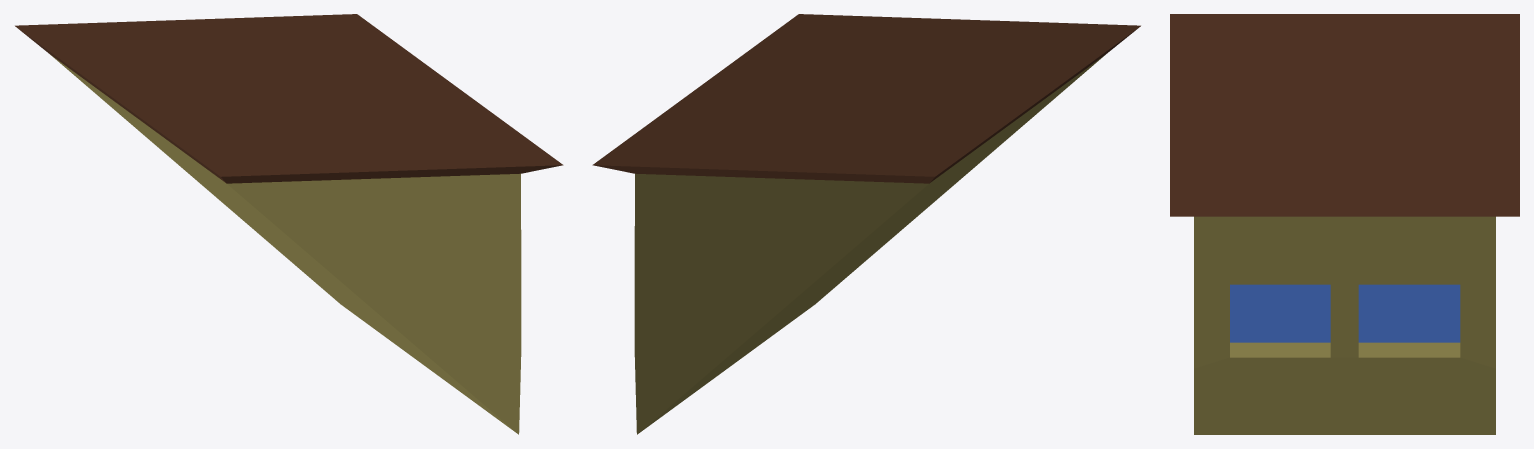
File: RoofWindow_DP_0910.fbx
3 renders of one model, left to right at view 1: azimuth 30°, elevation 25°; view 2: azimuth 150°, elevation 25°; view 3: azimuth 270°, elevation 25°, orthographic. The views are drawn at different scales.
Parts seen in each view (by area): view 1: Cube.085; view 2: Cube.085; view 3: Cube.085.
Boxes of the visible parts, <box> form: Cube.085: <box>15,14,563,434</box>; Cube.085: <box>592,14,1140,434</box>; Cube.085: <box>1170,14,1519,434</box>.
Bounding box in the file's own units: 222 × 213 × 232.
